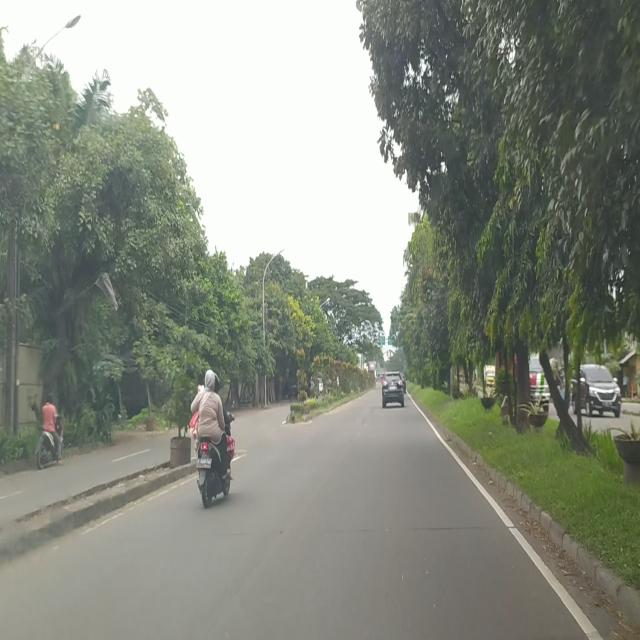Sewer Cover: (407, 522, 510, 534)
